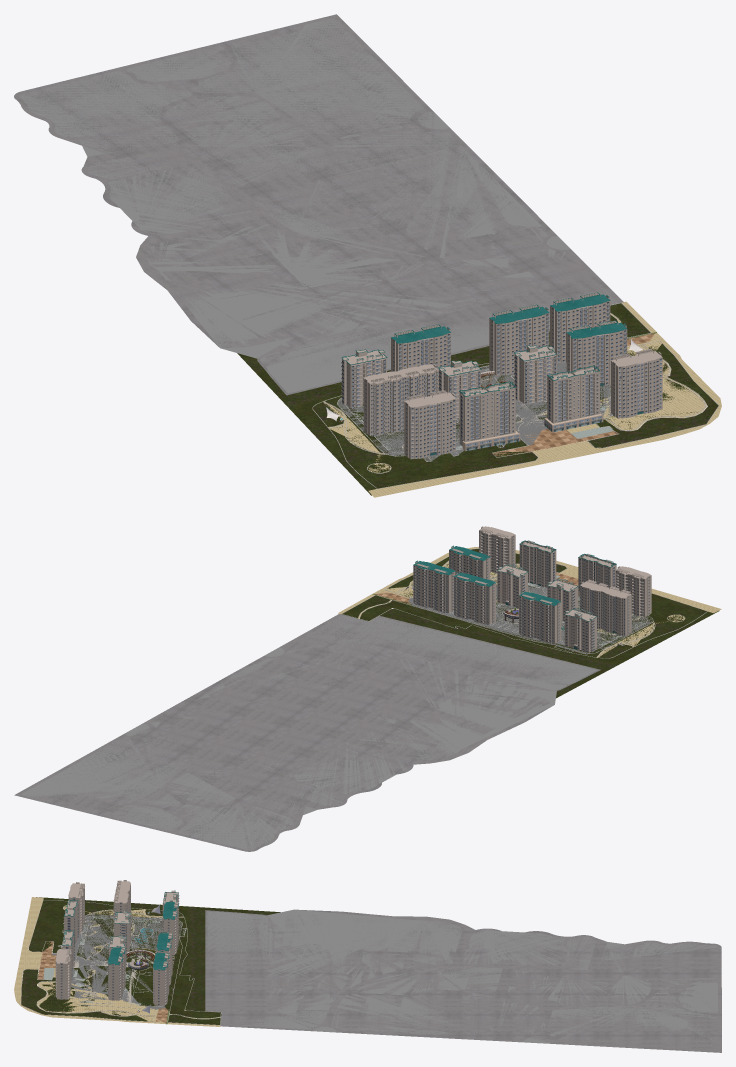
Rendered from baishuitang.FBX.
The picture shows the model from 3 angles, top to bottom: view 1: azimuth 30°, elevation 25°; view 2: azimuth 150°, elevation 25°; view 3: azimuth 270°, elevation 25°; orthographic projection. The views are drawn at different scales.
Visible parts, largest first — view 1: 66666, Rectangle007, Object7098, Line1875; view 2: 66666, Rectangle007, Object7098, Line1875; view 3: 66666, Rectangle007, Line1875, Object7098.
Boxes of the visible parts, box(x1,y1,x2,y2) form: 66666: box(14, 14, 623, 395); Rectangle007: box(20, 18, 618, 495); Object7098: box(341, 292, 662, 459); Line1875: box(312, 301, 721, 497); 66666: box(14, 614, 600, 851); Rectangle007: box(20, 609, 719, 849); Object7098: box(413, 526, 651, 652); Line1875: box(338, 546, 721, 658); 66666: box(205, 909, 721, 1052); Rectangle007: box(36, 897, 717, 1050); Line1875: box(14, 897, 221, 1026); Object7098: box(55, 880, 179, 1005).
Bounding box in the file's own units: 373 × 41.7 × 716.
